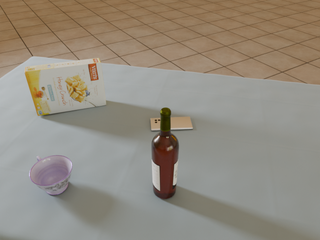bottle: (152, 108, 179, 199)
box: (25, 58, 106, 116)
cup: (30, 155, 72, 195)
phone: (151, 117, 193, 131)
